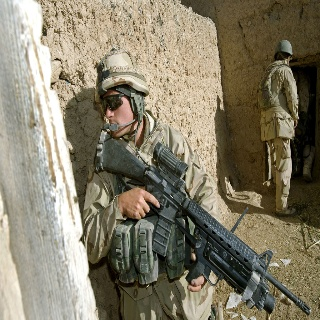rifle: (95, 128, 311, 315)
